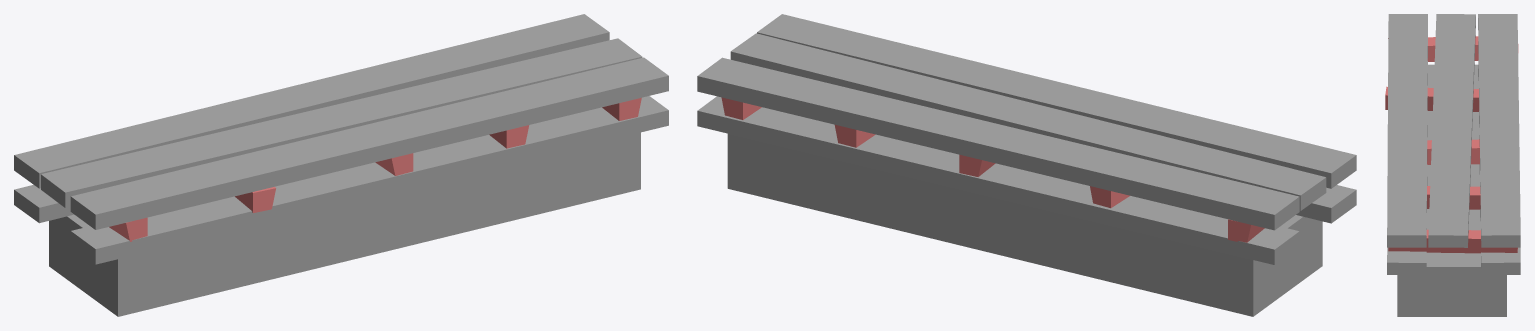
The model's file is market_table_01.fbx.
3 views of the same model, side by side, from view 1: azimuth 30°, elevation 25°; view 2: azimuth 150°, elevation 25°; view 3: azimuth 270°, elevation 25° (orthographic). The views are drawn at different scales.
Visible parts, largest first — view 1: market_table_01; view 2: market_table_01; view 3: market_table_01.
Boxes of the visible parts, x1,y1,x2,y2 form: market_table_01: [14, 14, 668, 316]; market_table_01: [697, 14, 1356, 316]; market_table_01: [1385, 14, 1520, 316].
Size of the model in its own units: 484 by 91.41 by 125.
